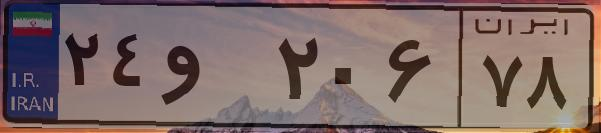0: (330, 28, 385, 110)
2: (270, 28, 330, 110), (57, 26, 110, 100)
4: (110, 28, 158, 98)
6: (385, 28, 445, 110)
7: (475, 38, 525, 113)
8: (525, 38, 570, 115)
و: (158, 20, 270, 120)
